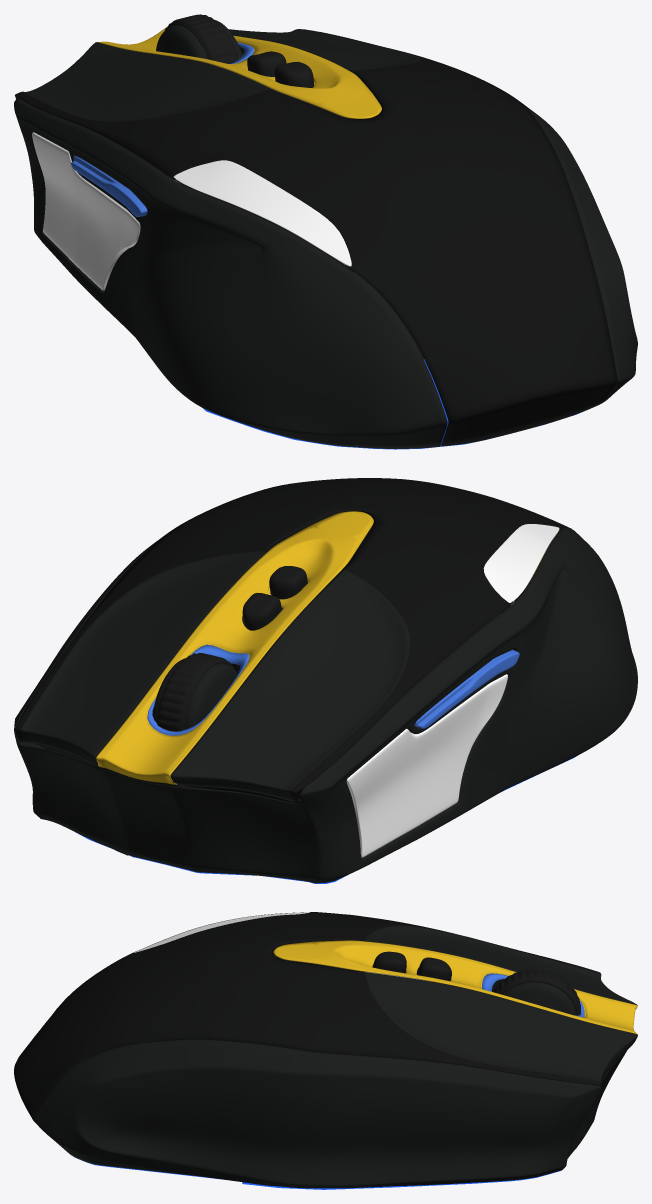
File: Mouse.glb
The picture shows the model from 3 angles, top to bottom: view 1: azimuth 30°, elevation 25°; view 2: azimuth 150°, elevation 25°; view 3: azimuth 270°, elevation 25°; orthographic projection. The views are drawn at different scales.
Parts seen in each view (by area): view 1: MouseThermaltakeBlack.015, MouseThermaltakeBlack.003, MouseThermaltakeBlack.001, MouseThermaltakeBlack, MouseThermaltakeBlack.002, MouseThermaltakeBlack.008, MouseThermaltakeBlack.007, MouseThermaltakeBlack.004; view 2: MouseThermaltakeBlack.003, MouseThermaltakeBlack.015, MouseThermaltakeBlack.001, MouseThermaltakeBlack, MouseThermaltakeBlack.008, MouseThermaltakeBlack.002, MouseThermaltakeBlack.004, MouseThermaltakeBlack.007, MouseThermaltakeBlack.012, MouseThermaltakeBlack.013; view 3: MouseThermaltakeBlack.003, MouseThermaltakeBlack.015, MouseThermaltakeBlack.008, MouseThermaltakeBlack, MouseThermaltakeBlack.005, MouseThermaltakeBlack.001, MouseThermaltakeBlack.004, MouseThermaltakeBlack.007.
Part boxes in pixels (bbox=[...]): MouseThermaltakeBlack.015: bbox=[15, 29, 617, 446]; MouseThermaltakeBlack.003: bbox=[14, 26, 637, 448]; MouseThermaltakeBlack.001: bbox=[174, 160, 351, 266]; MouseThermaltakeBlack: bbox=[165, 14, 243, 76]; MouseThermaltakeBlack.002: bbox=[71, 155, 147, 216]; MouseThermaltakeBlack.008: bbox=[156, 20, 248, 78]; MouseThermaltakeBlack.007: bbox=[274, 62, 314, 87]; MouseThermaltakeBlack.004: bbox=[247, 51, 286, 76]; MouseThermaltakeBlack.003: bbox=[14, 511, 637, 883]; MouseThermaltakeBlack.015: bbox=[15, 478, 570, 802]; MouseThermaltakeBlack.001: bbox=[483, 524, 559, 605]; MouseThermaltakeBlack: bbox=[156, 653, 233, 731]; MouseThermaltakeBlack.008: bbox=[153, 658, 237, 729]; MouseThermaltakeBlack.002: bbox=[414, 650, 519, 728]; MouseThermaltakeBlack.004: bbox=[242, 592, 281, 630]; MouseThermaltakeBlack.007: bbox=[269, 566, 307, 599]; MouseThermaltakeBlack.012: bbox=[97, 511, 375, 801]; MouseThermaltakeBlack.013: bbox=[15, 730, 302, 803]; MouseThermaltakeBlack.003: bbox=[32, 914, 637, 1188]; MouseThermaltakeBlack.015: bbox=[14, 912, 637, 1117]; MouseThermaltakeBlack.008: bbox=[502, 982, 576, 1015]; MouseThermaltakeBlack: bbox=[492, 969, 580, 1015]; MouseThermaltakeBlack.005: bbox=[74, 1148, 576, 1189]; MouseThermaltakeBlack.001: bbox=[134, 912, 309, 952]; MouseThermaltakeBlack.004: bbox=[417, 957, 451, 981]; MouseThermaltakeBlack.007: bbox=[372, 951, 406, 973].
Size of the model in its own units: 0.0357 by 0.0175 by 0.0598.
